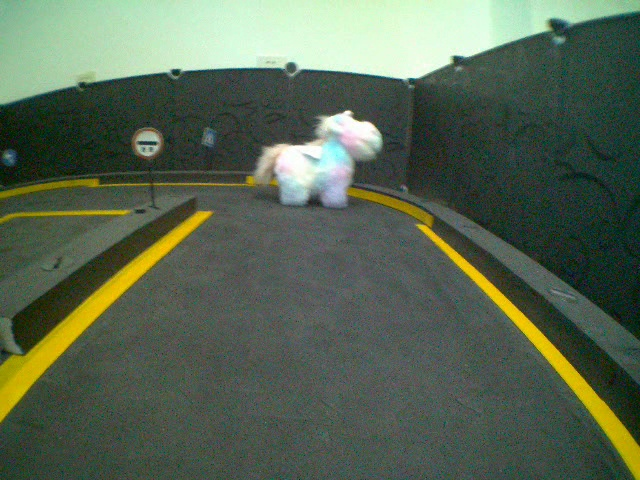unicorn: (249, 107, 384, 211)
